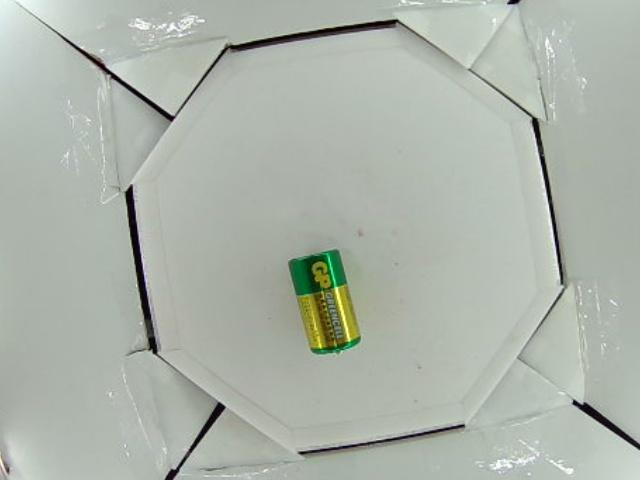Battery: (288, 247, 362, 356)
